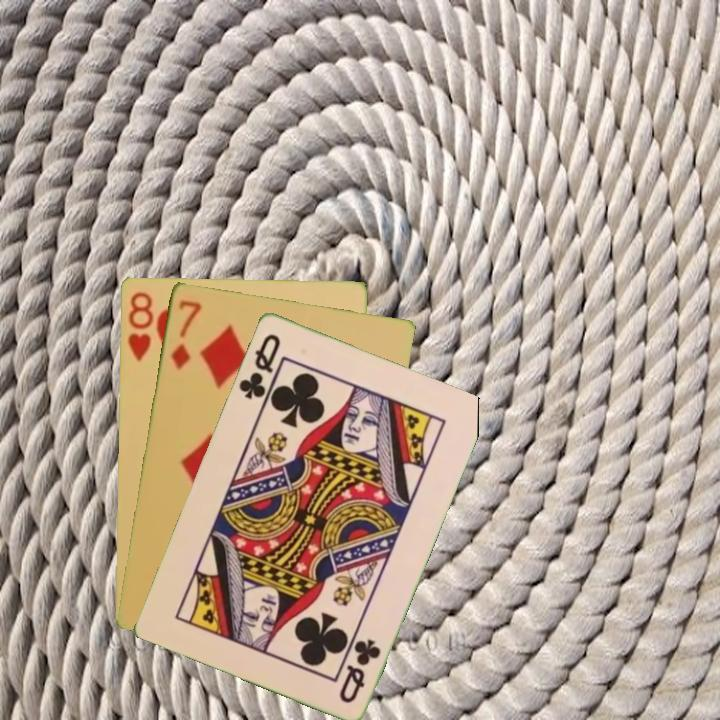7d: (167, 296, 204, 372)
8h: (124, 288, 156, 364)
Qc: (235, 329, 284, 409), (335, 634, 384, 706)
